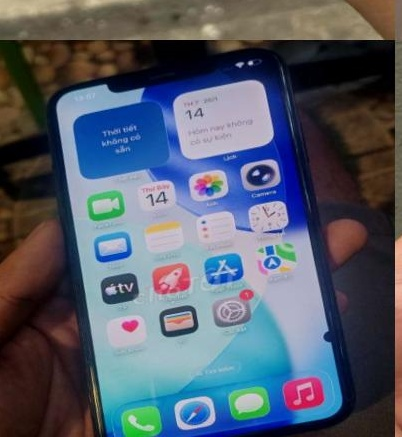screen_defect: (318, 317, 353, 357)
